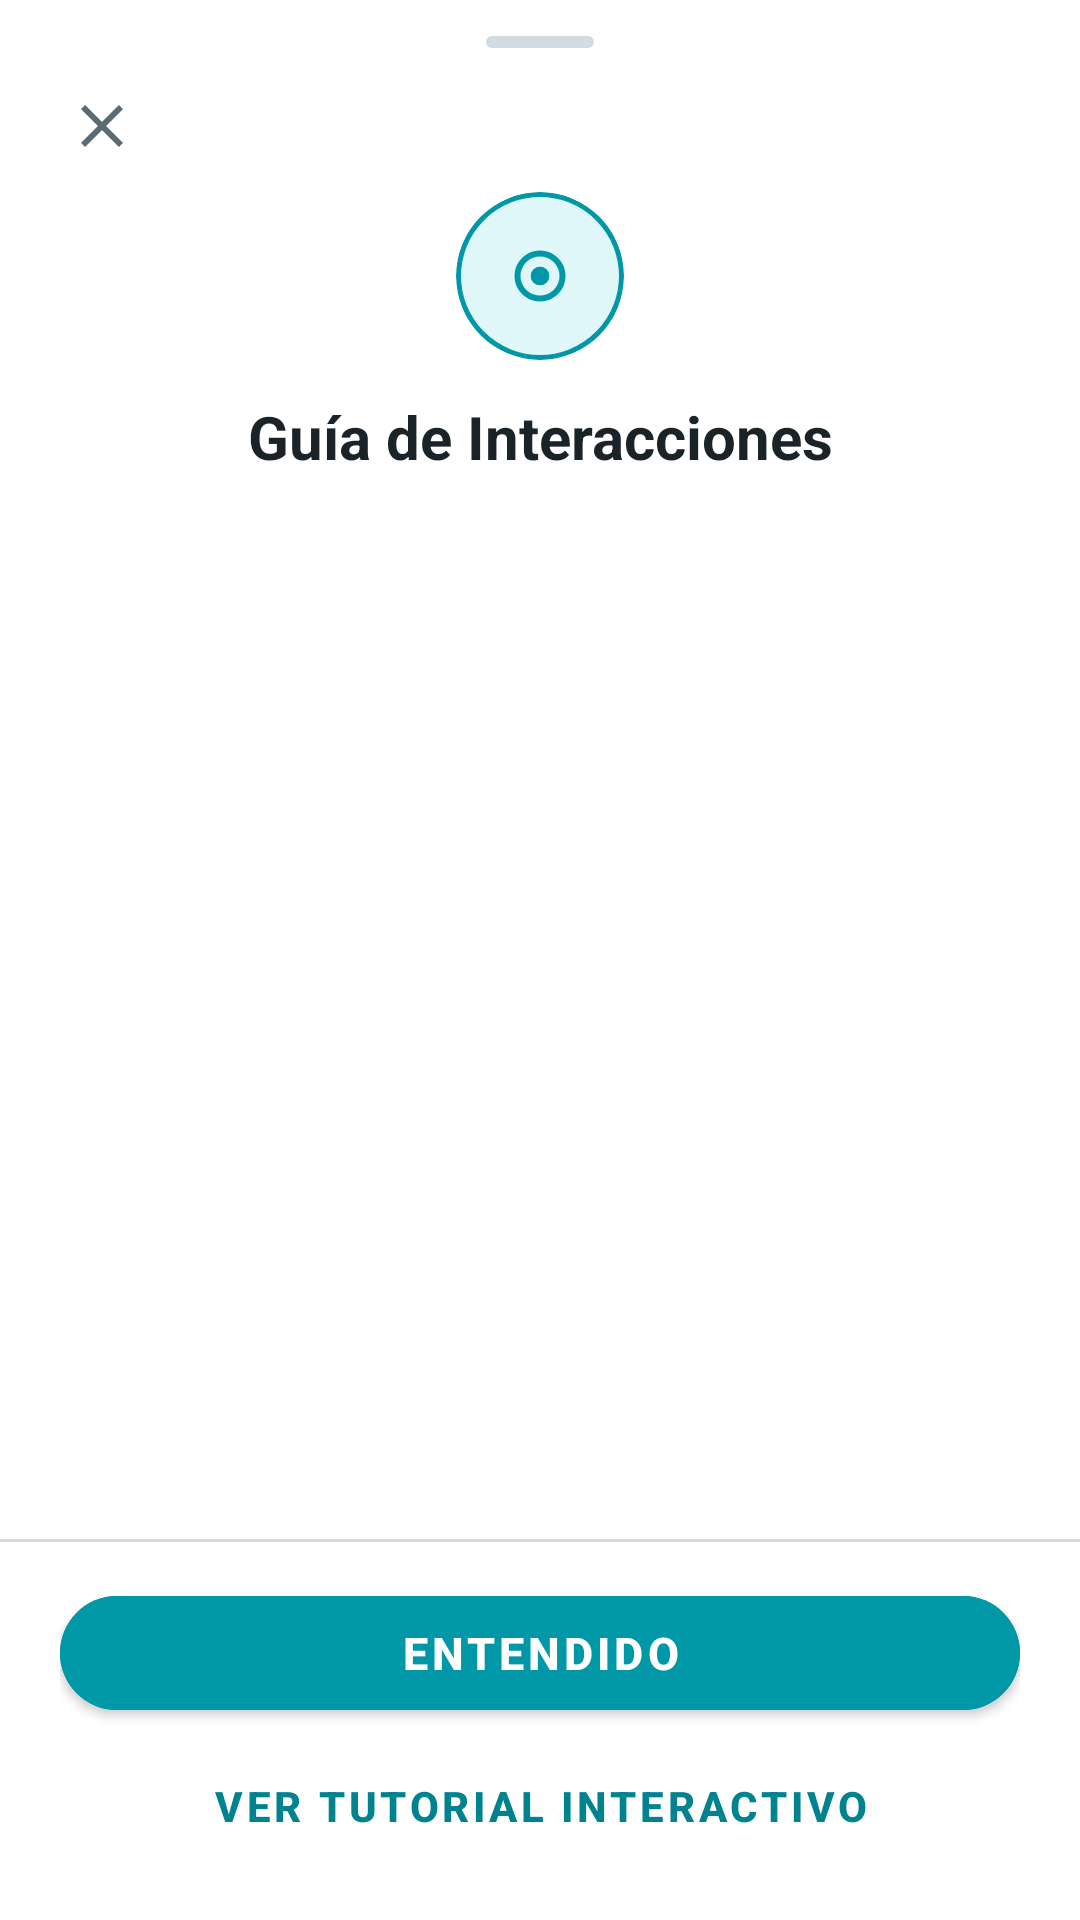

Icons on this 1080×1920 Android screen, each with the point to tap as [x,y]:
Cancelar: [102,126]
touch: [540,276]
